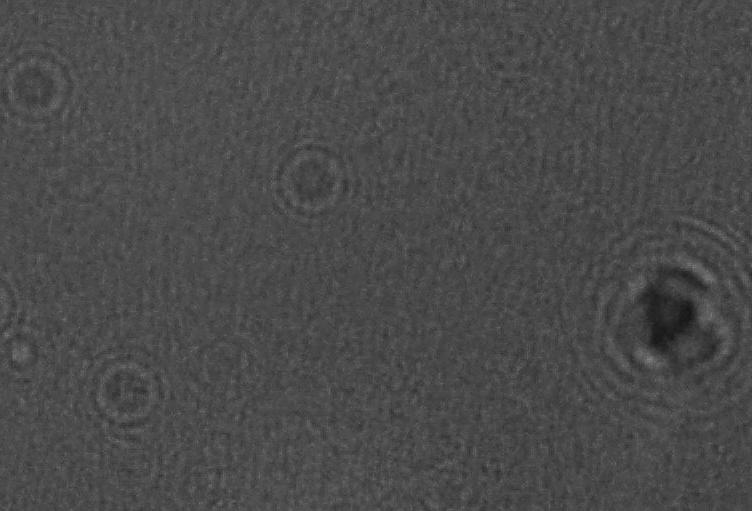bead: (69, 344, 186, 442), (258, 133, 366, 233), (0, 36, 93, 133), (0, 257, 32, 353)
